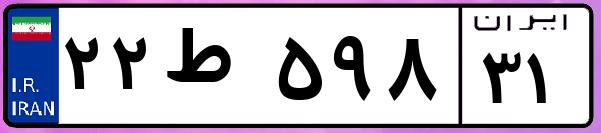1: (525, 38, 570, 115)
2: (57, 26, 110, 100), (110, 28, 158, 98)
3: (475, 38, 525, 113)
5: (270, 28, 330, 110)
8: (385, 28, 445, 110)
9: (330, 28, 385, 110)
ط: (158, 20, 270, 120)
